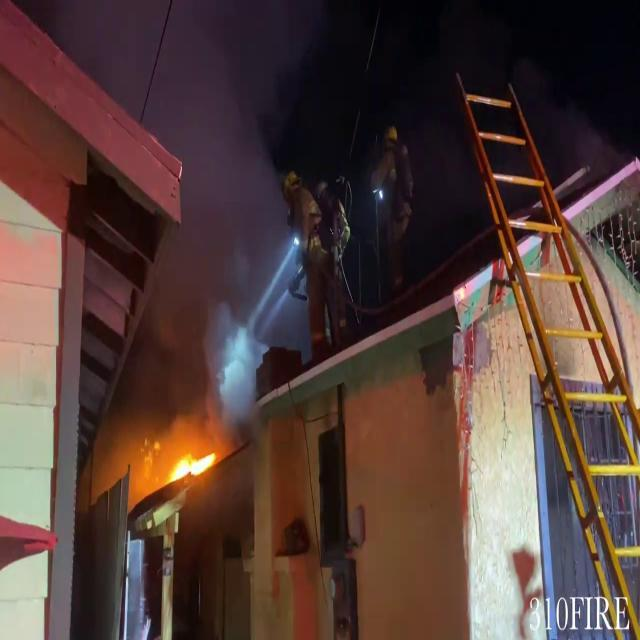Fire: (166, 436, 221, 496)
Smoke: (132, 0, 312, 361)
